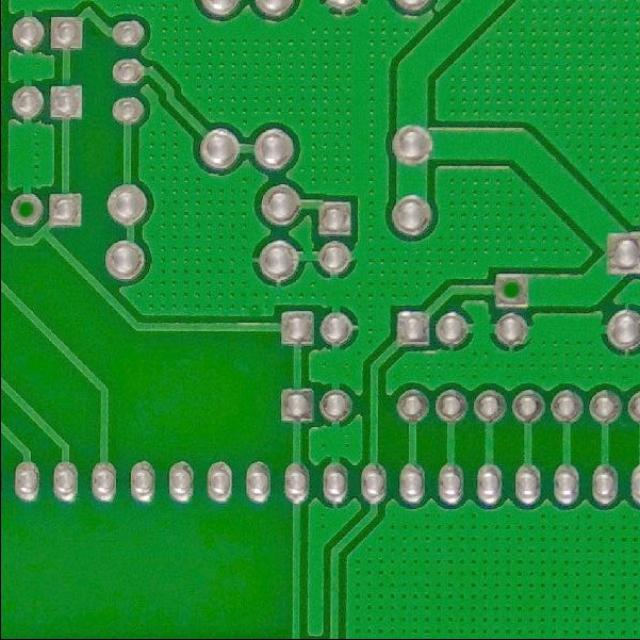missing_hole: (1, 193, 43, 232), (488, 274, 528, 311)
